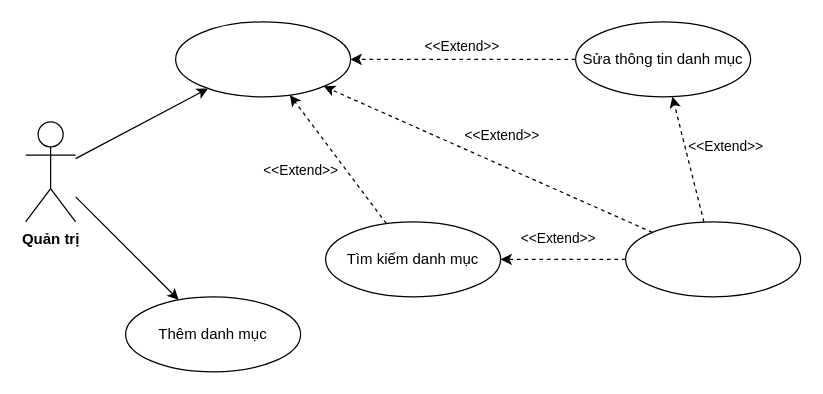
This 823x394 diagram has some shape labels left out. Each missing label, with the centre of its shape:
Xem danh sách danh mục: the point at 262,59
Xóa danh mục: the point at 712,259
